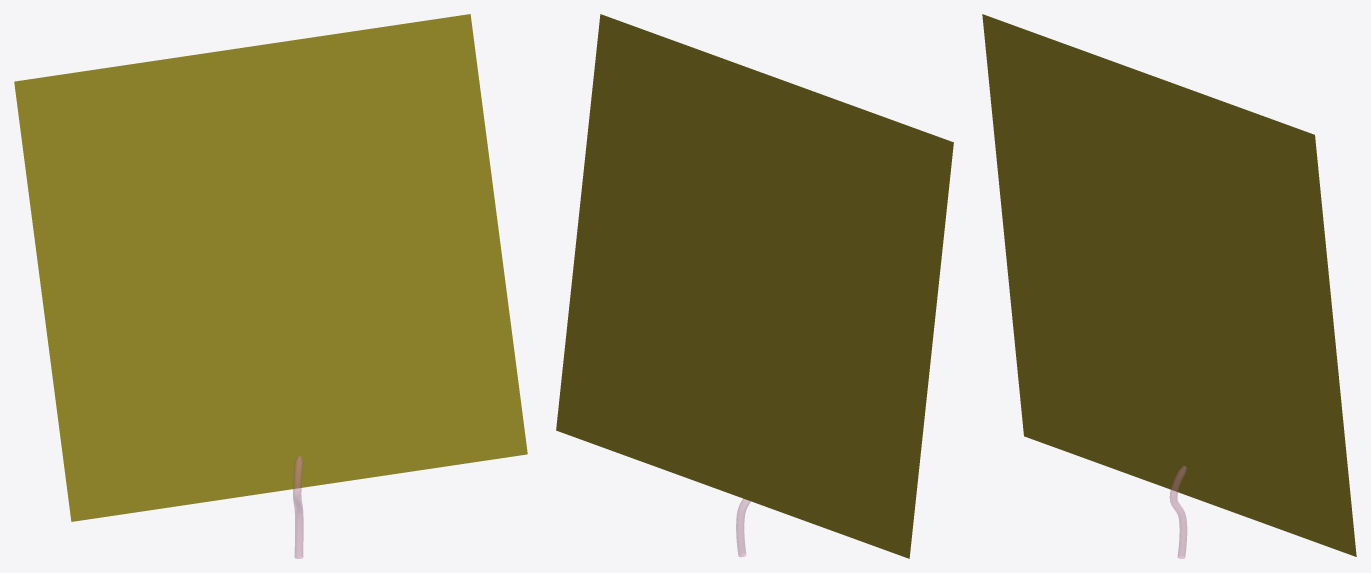
The model's file is frame_small.glb.
3 views of the same model, side by side, from view 1: azimuth 30°, elevation 25°; view 2: azimuth 150°, elevation 25°; view 3: azimuth 330°, elevation 25° (orthographic). The views are drawn at different scales.
Visible parts, largest first — view 1: decorative_set_vol005_hamid_shk48.001; view 2: decorative_set_vol005_hamid_shk48.001; view 3: decorative_set_vol005_hamid_shk48.001.
Boxes of the visible parts, x1,y1,x2,y2 form: decorative_set_vol005_hamid_shk48.001: (14,14,527,558); decorative_set_vol005_hamid_shk48.001: (556,14,953,558); decorative_set_vol005_hamid_shk48.001: (982,14,1356,558).
Bounding box in the file's own units: 0.8089 × 0.8579 × 0.1526.
